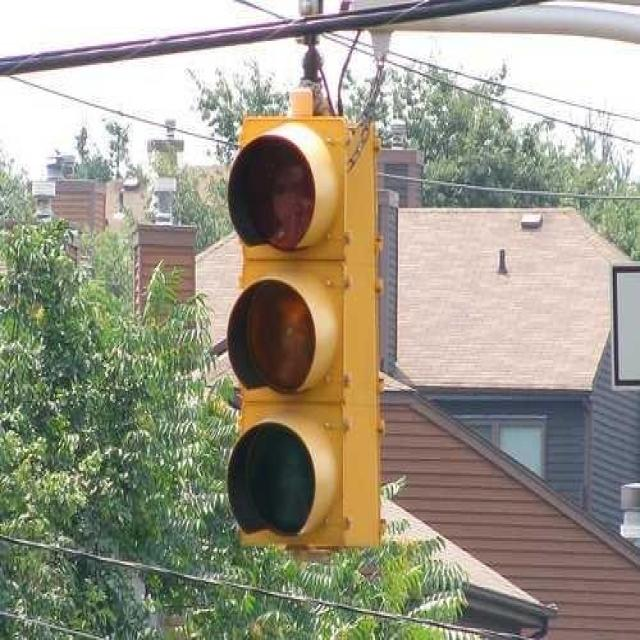Traffic Light -Yellow-: (226, 107, 350, 562)
